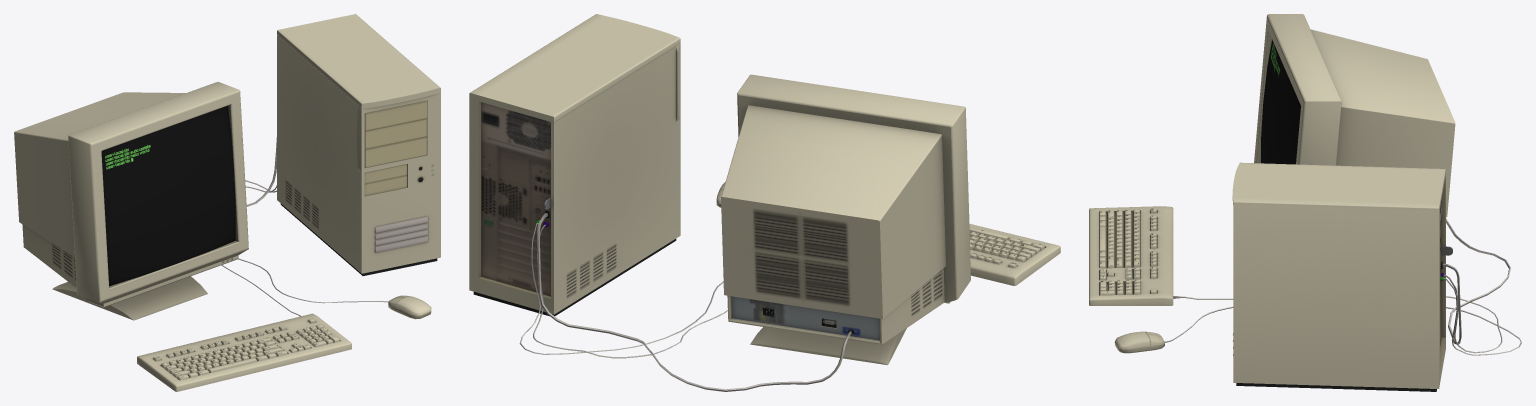
File: computer.obj
3 renders of one model, left to right at view 1: azimuth 30°, elevation 25°; view 2: azimuth 150°, elevation 25°; view 3: azimuth 270°, elevation 25°, orthographic. The views are drawn at different scales.
Parts seen in each view (by area): view 1: retro_computer_setup; view 2: retro_computer_setup; view 3: retro_computer_setup.
Part boxes in pixels (x1=…): retro_computer_setup: x1=14, y1=14, x2=440, y2=391; retro_computer_setup: x1=469, y1=14, x2=1060, y2=391; retro_computer_setup: x1=1089, y1=14, x2=1521, y2=391.
Bounding box in the file's own units: 0.9681 × 0.4928 × 0.9694.
1 material, 1 textured.
